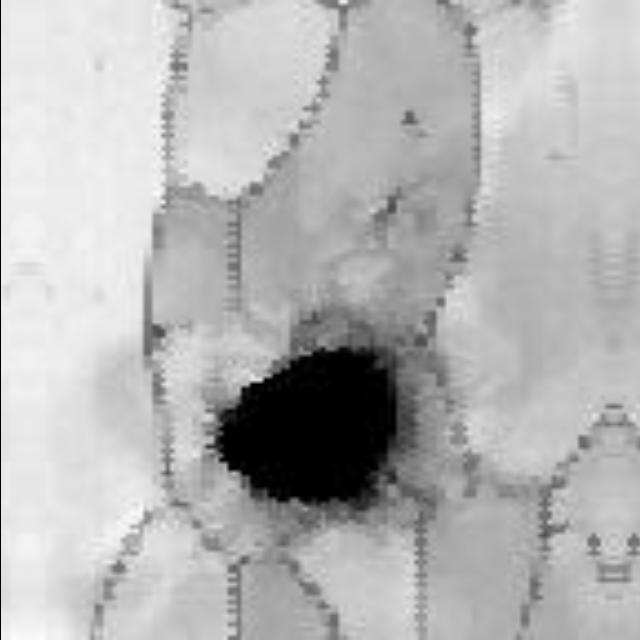good_void: (205, 317, 420, 531), (359, 175, 412, 247), (396, 105, 435, 141)
